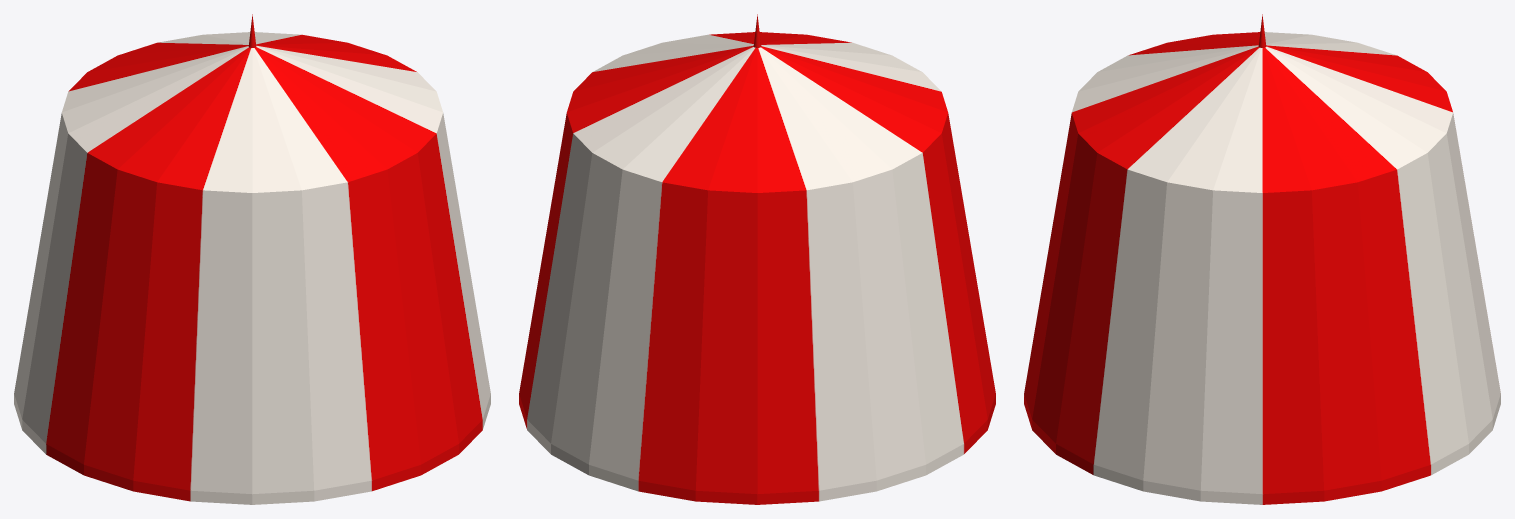
Rendered from Tent.glb.
The picture shows the model from 3 angles, left to right: view 1: azimuth 30°, elevation 25°; view 2: azimuth 150°, elevation 25°; view 3: azimuth 270°, elevation 25°; orthographic projection.
Visible parts, largest first — view 1: Cylinder; view 2: Cylinder; view 3: Cylinder.
Boxes of the visible parts, x1,y1,x2,y2 form: Cylinder: [14, 14, 490, 504]; Cylinder: [519, 14, 995, 504]; Cylinder: [1024, 14, 1500, 504].
Bounding box in the file's own units: 20 × 18.06 × 20.
1 material, 1 textured.
